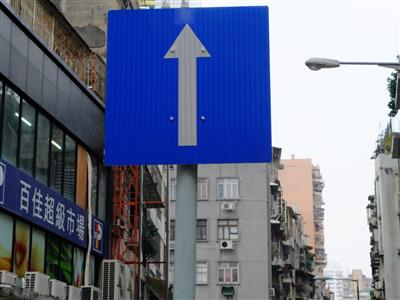oneway: (90, 3, 280, 170)
